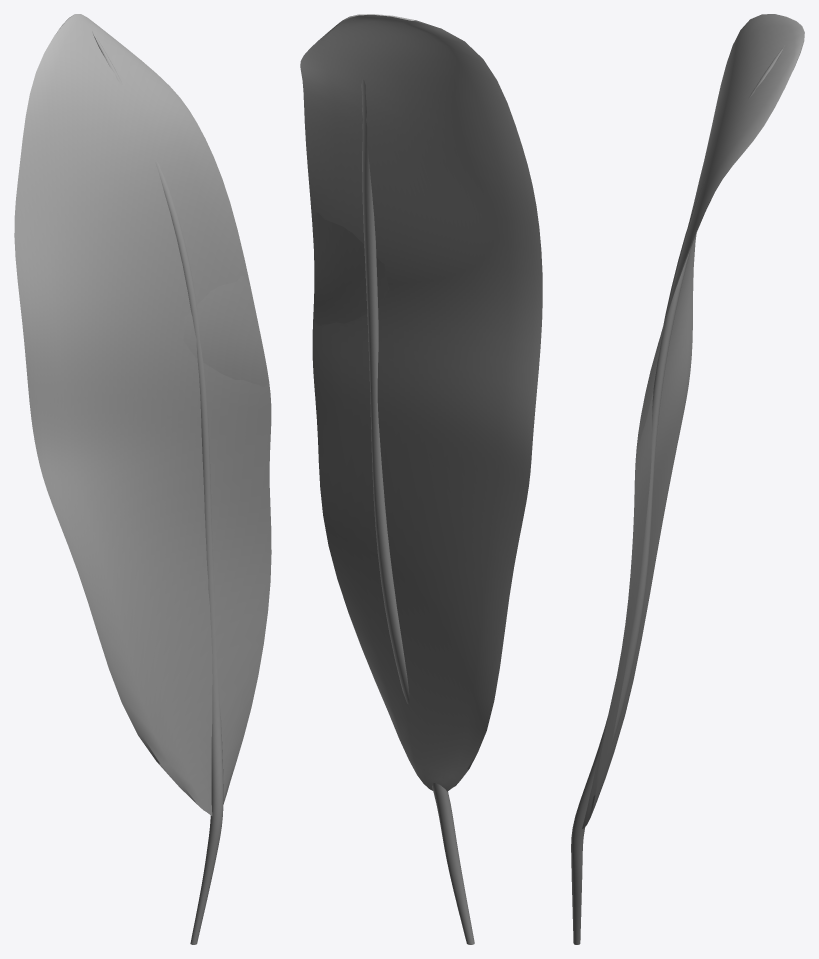
Rendered from Feather.fbx.
3 renders of one model, left to right at view 1: azimuth 30°, elevation 25°; view 2: azimuth 150°, elevation 25°; view 3: azimuth 270°, elevation 25°, orthographic. The views are drawn at different scales.
Parts seen in each view (by area): view 1: Feather; view 2: Feather; view 3: Feather.
Boxes of the visible parts, bbox=[...] form: Feather: bbox=[14, 14, 271, 944]; Feather: bbox=[300, 14, 542, 944]; Feather: bbox=[571, 14, 804, 944].
Size of the model in its own units: 8.83 by 32.44 by 7.54.
Materials: 1 (1 with a texture image).
